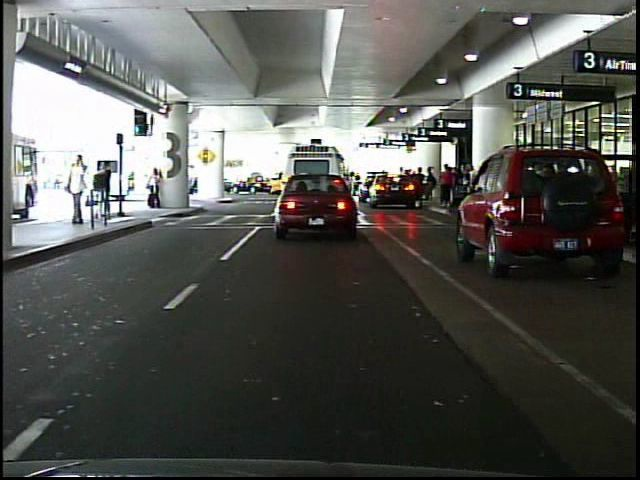person: (65, 151, 92, 230), (95, 157, 114, 222), (147, 166, 167, 211), (438, 162, 454, 210), (190, 164, 207, 203)
